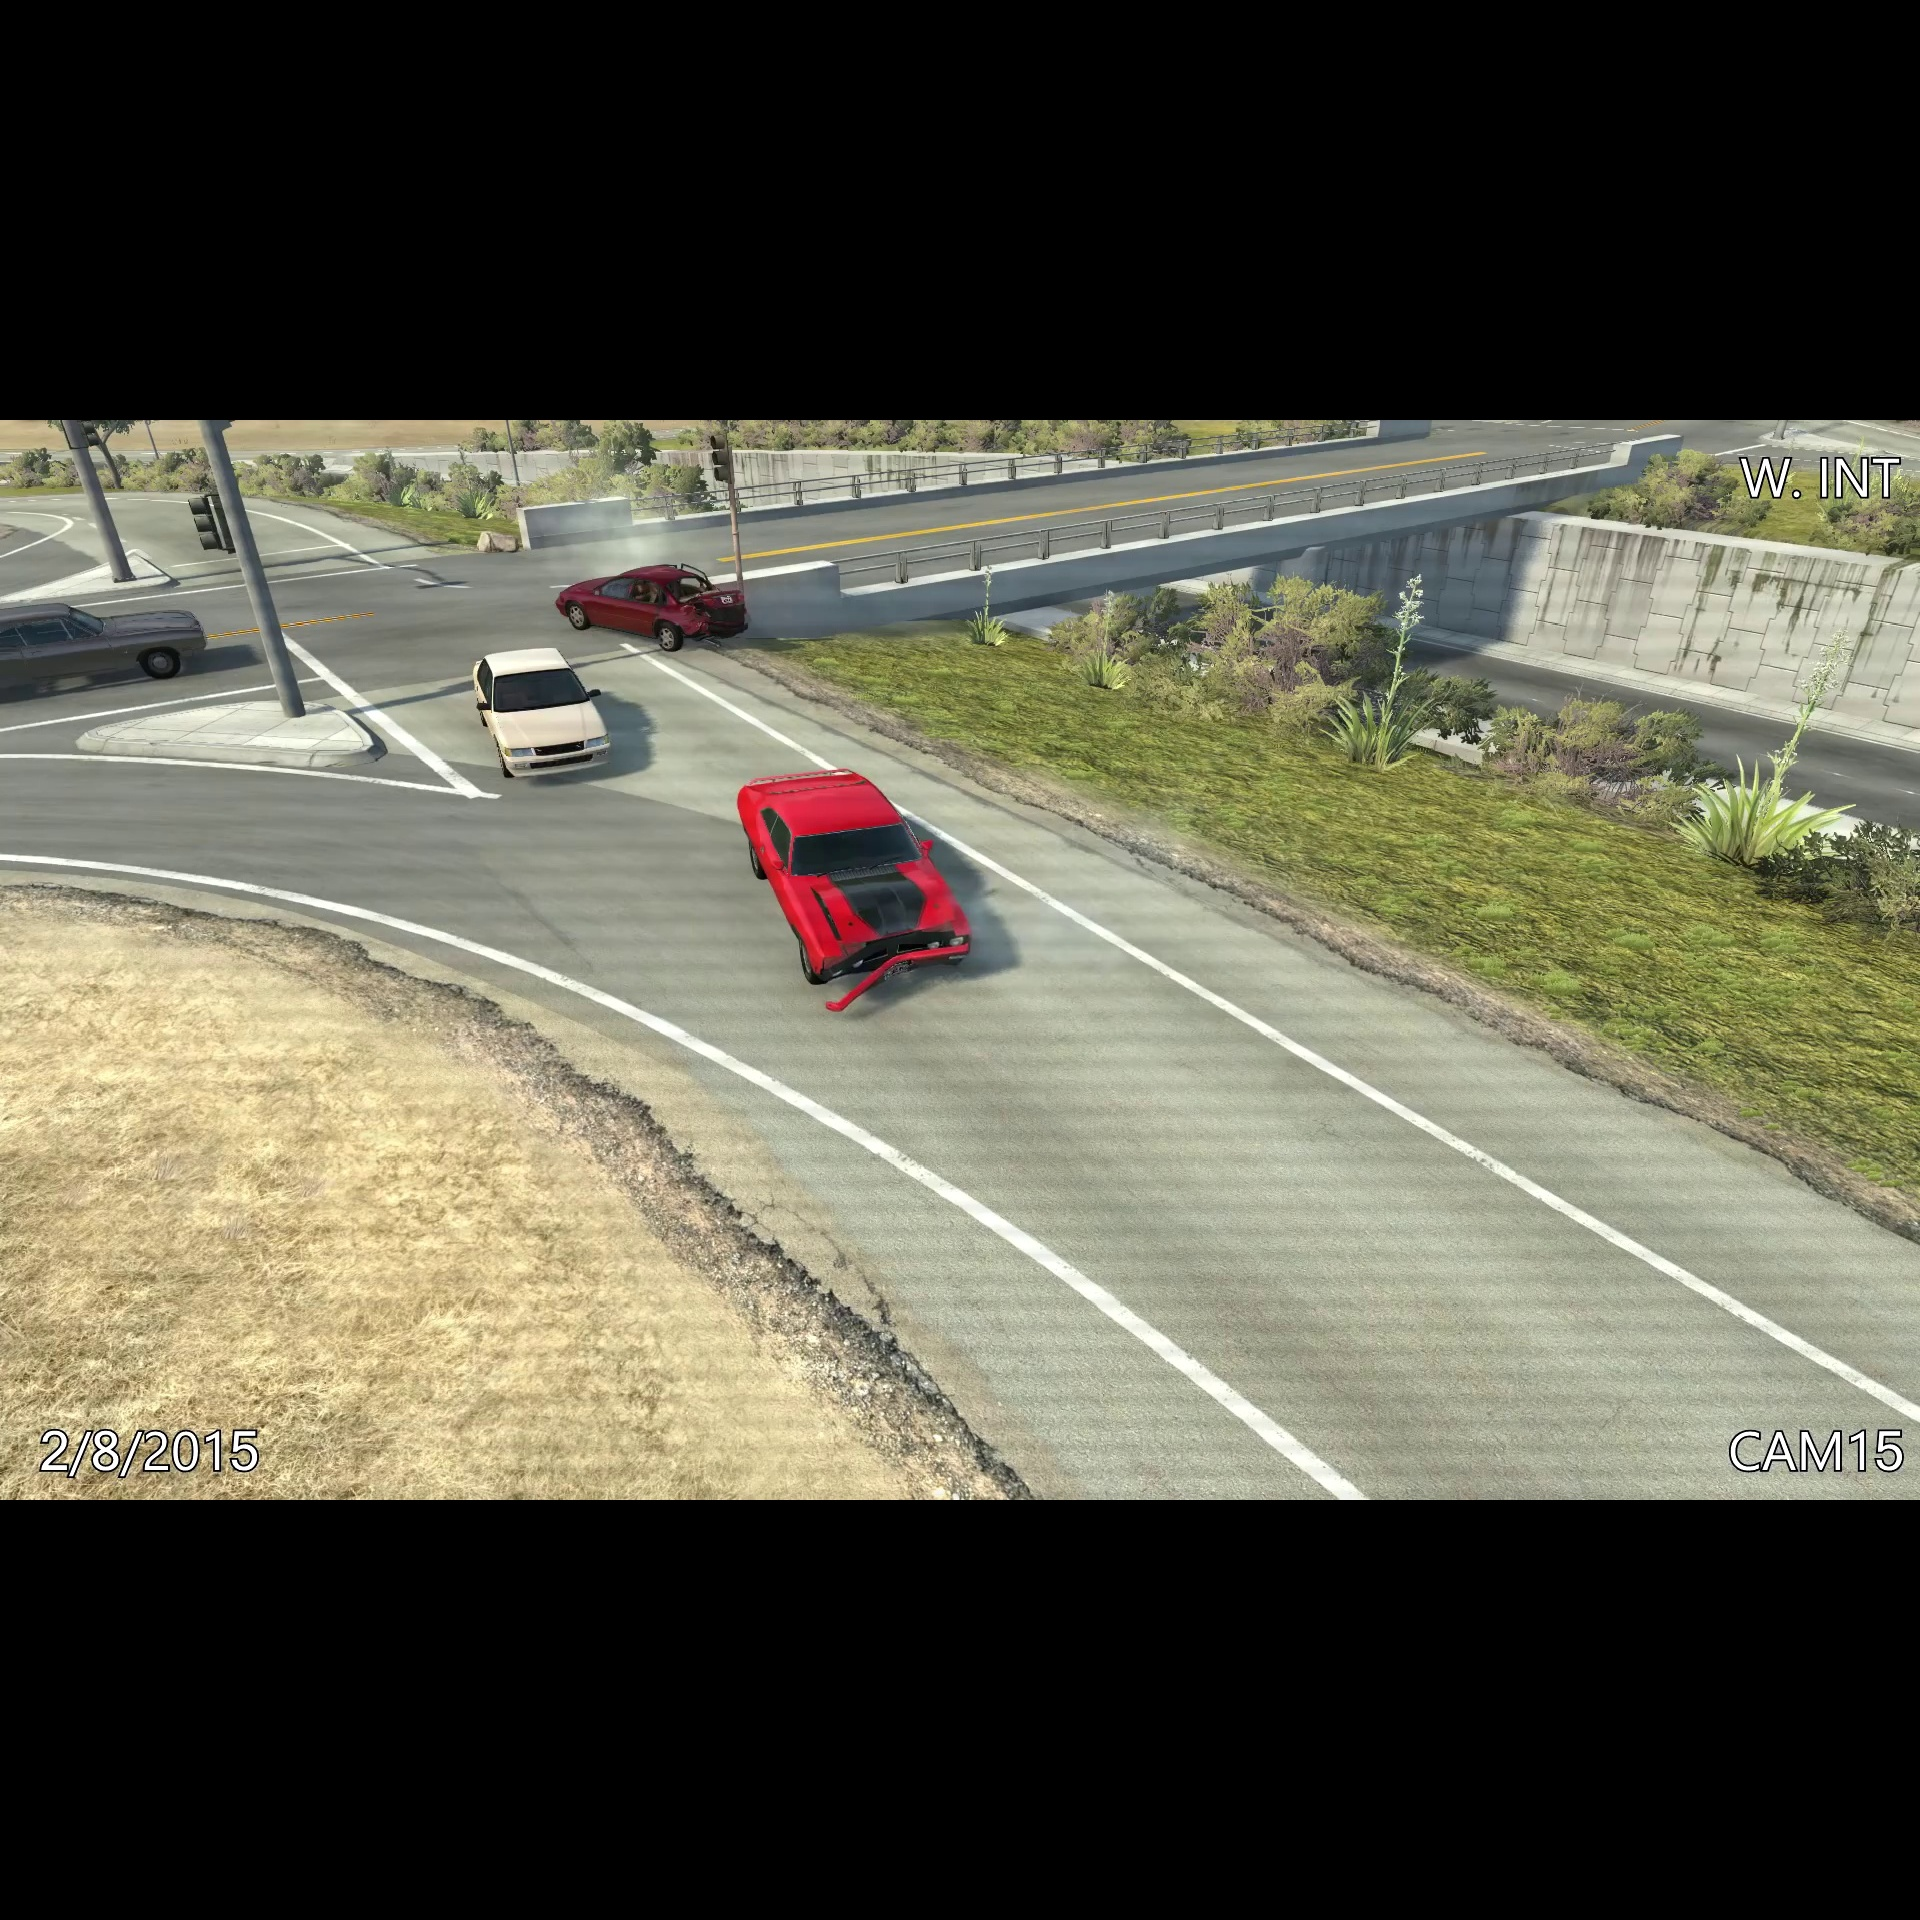vehicle: (724, 761, 985, 1009), (2, 585, 223, 705), (464, 635, 621, 788), (552, 554, 763, 656)
